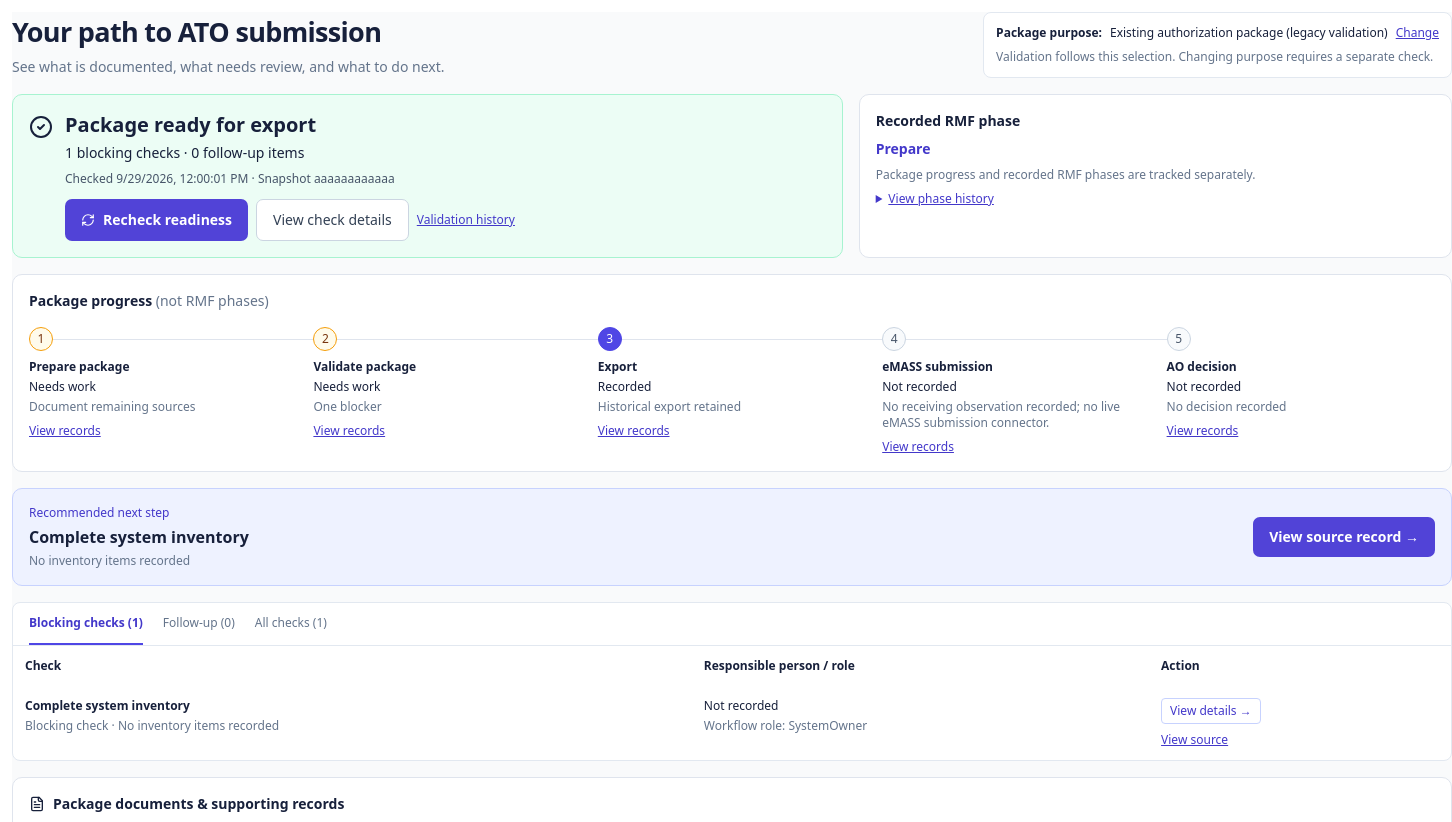
Test: Authoritative package readiness › does not restore a ready claim from an old run after a failed revalidation request
The width and height of the screenshot is (1452, 822).
Expected: the text "Package ready for export" is shown, [65,111,316,138]
Click the button "Recheck readiness" at (156, 220), box [65,199,248,241]
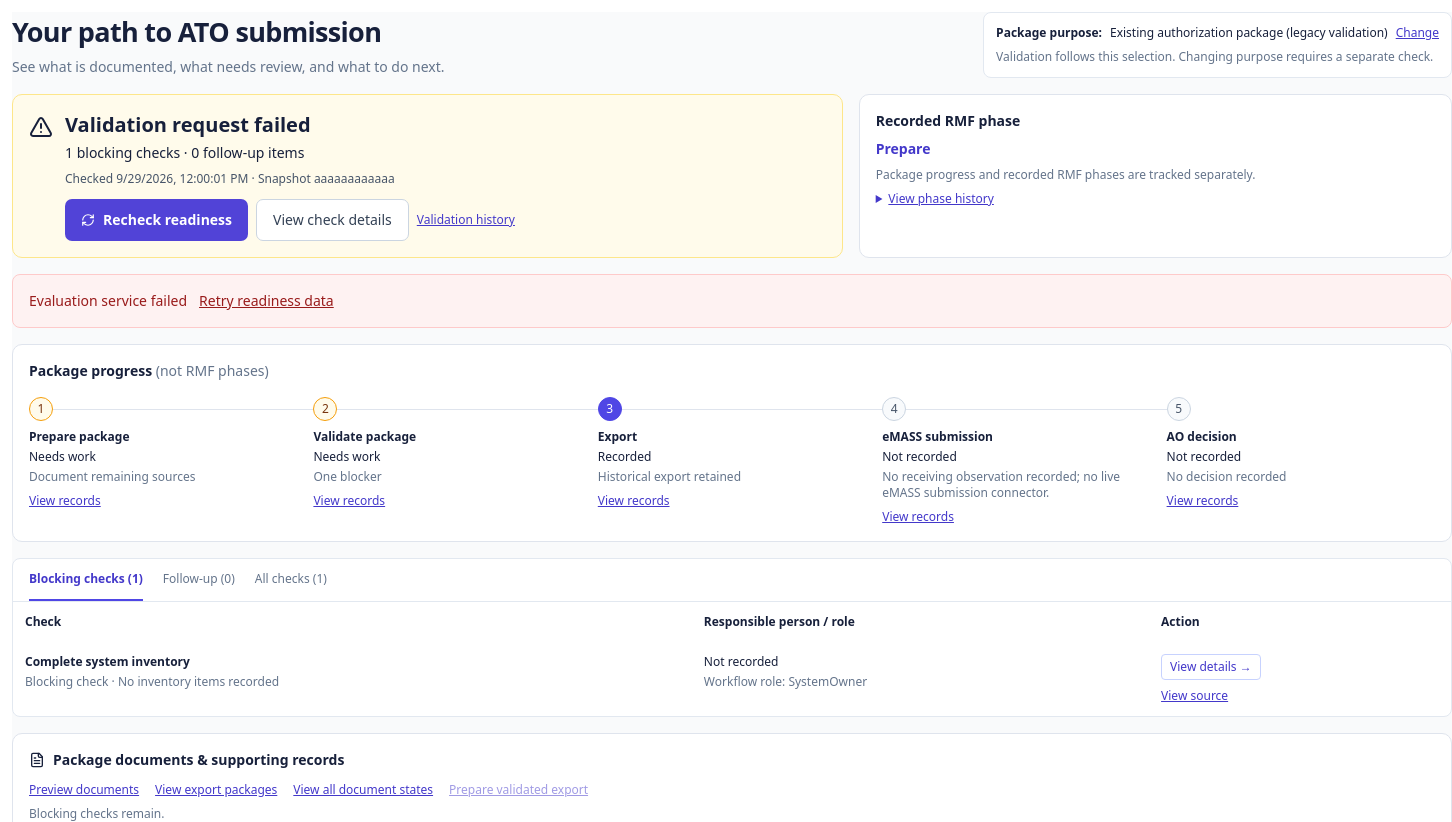
Expected: the button "Prepare validated export" is disabled, [449,782,588,798]
Expected: the message "Evaluation service failed Retry readiness data" is shown, [12,274,1451,328]
Expected: the text "Package ready for export" is gone
